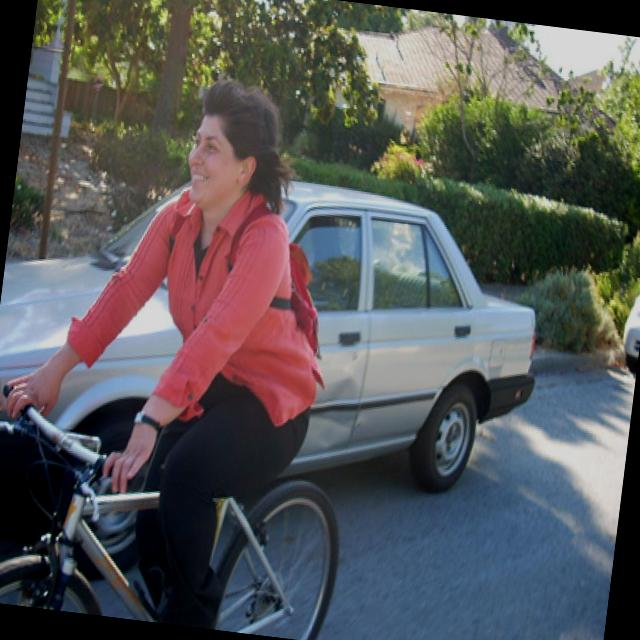Vehicle: (0, 143, 554, 580), (616, 264, 640, 374)
